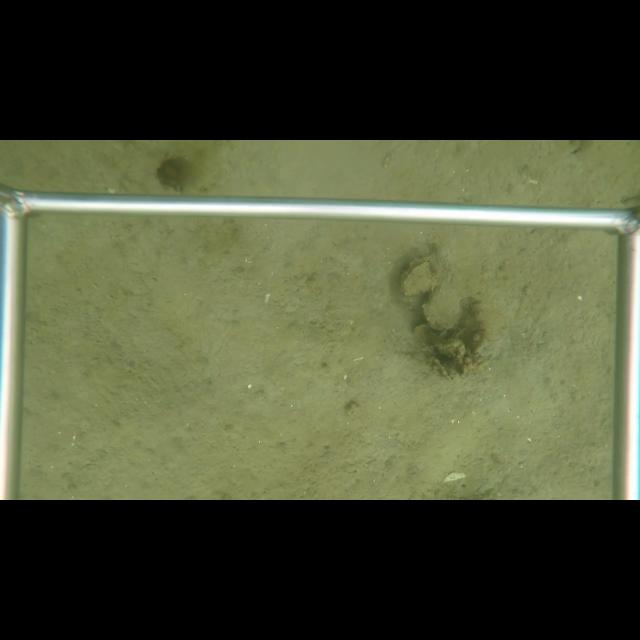Oyster-Closed: (422, 281, 465, 331), (399, 257, 441, 297)
